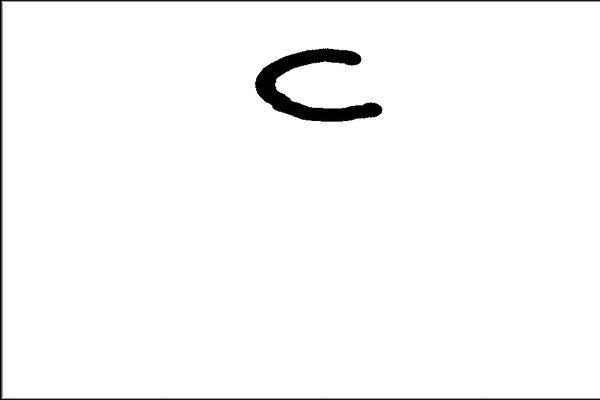C: (248, 40, 386, 131)
